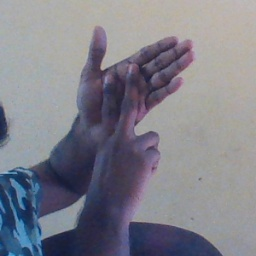N: (68, 18, 201, 190)
